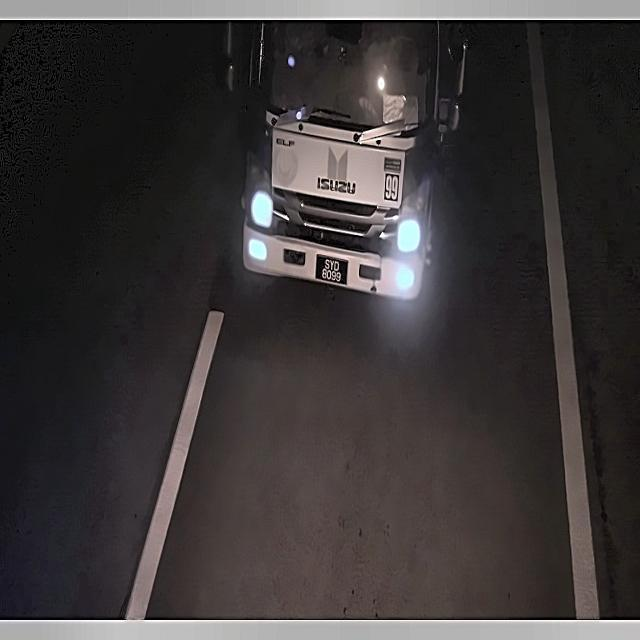car: (311, 247, 352, 292)
